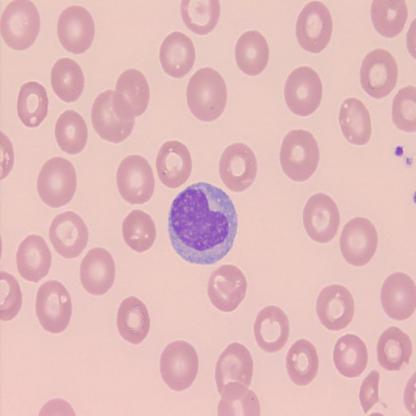Atypical lymphocyte: (171, 180, 240, 265)
